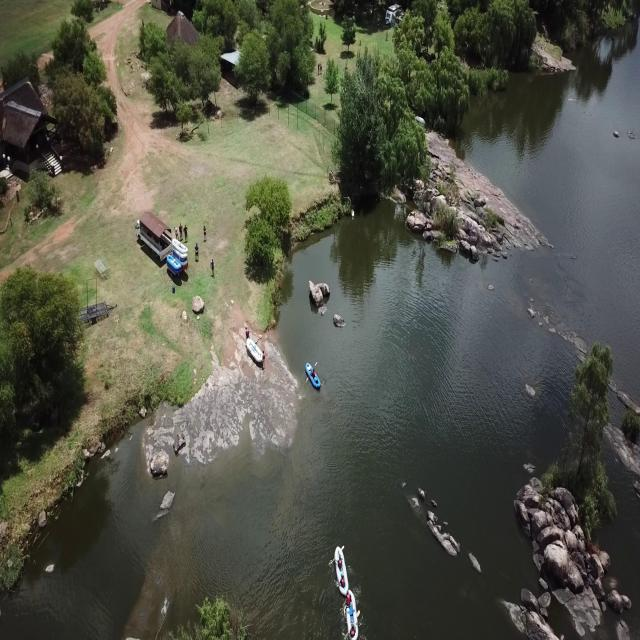kayak: (332, 544, 351, 600), (341, 592, 362, 640), (305, 360, 322, 395)
